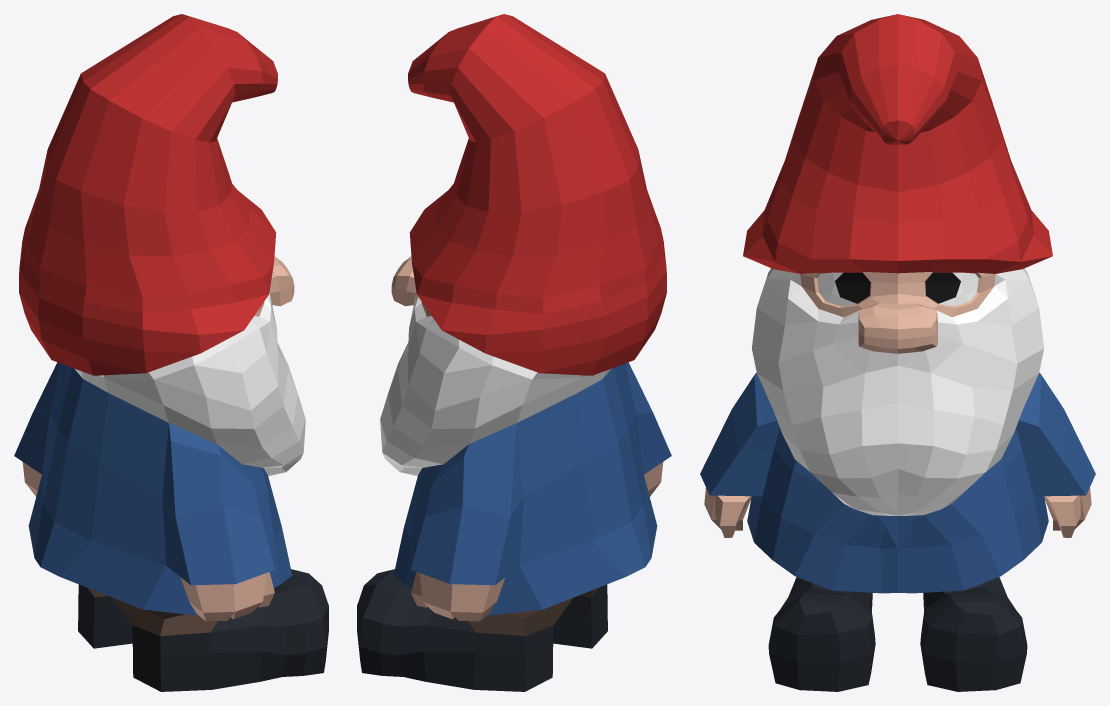
File: Gnome_Garden.fbx
3 renders of one model, left to right at view 1: azimuth 30°, elevation 25°; view 2: azimuth 150°, elevation 25°; view 3: azimuth 270°, elevation 25°, orthographic.
Visible parts, largest first — view 1: Gnome_Garden; view 2: Gnome_Garden; view 3: Gnome_Garden.
Part boxes in pixels (x1,y1,x2,y2): Gnome_Garden: [14, 14, 328, 691]; Gnome_Garden: [357, 14, 671, 691]; Gnome_Garden: [700, 14, 1095, 691].
Size of the model in its own units: 23.2 by 56.74 by 32.15.
